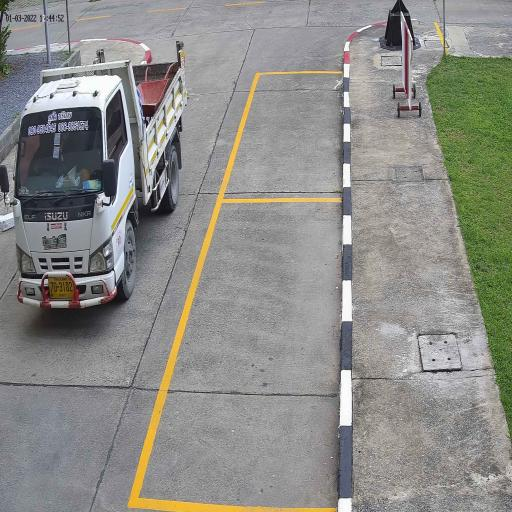car: (12, 47, 189, 314)
